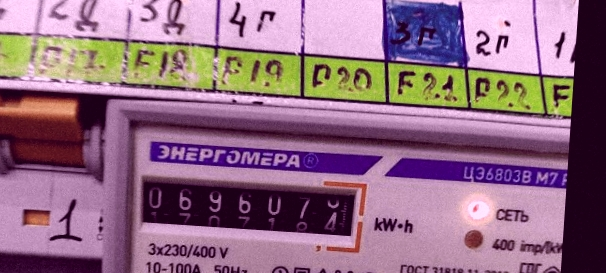0: (146, 183, 164, 208), (265, 189, 282, 215)
4: (321, 208, 339, 233)
6: (175, 185, 194, 210), (235, 188, 254, 213)
7: (295, 193, 312, 220)
9: (205, 187, 223, 212)
screen: (125, 160, 371, 250)
